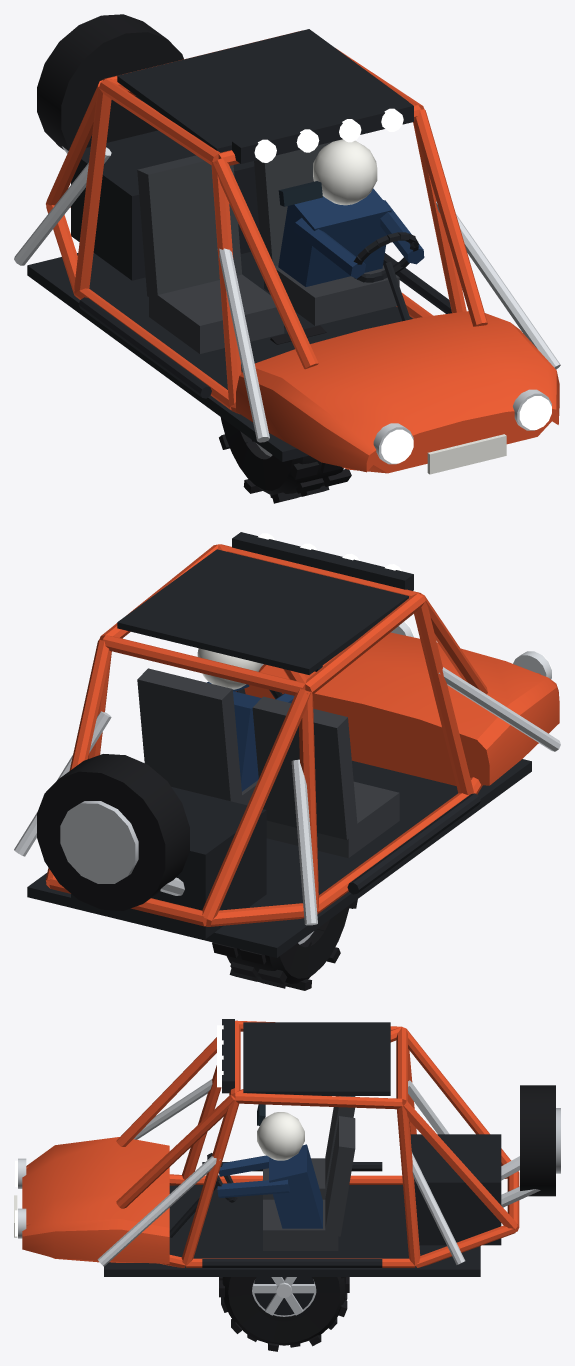
Rendered from buggy.glb.
3 views of the same model, one above another, from view 1: azimuth 30°, elevation 25°; view 2: azimuth 150°, elevation 25°; view 3: azimuth 270°, elevation 25° (orthographic). The views are drawn at different scales.
Visible parts, largest first — view 1: body, wheel; view 2: body, wheel; view 3: body, wheel.
Boxes of the visible parts, x1,y1,x2,y2 form: body: (14,14,560,474); wheel: (219,325,351,503); body: (14,532,560,957); wheel: (212,899,357,990); body: (14,1019,560,1276); wheel: (219,1277,349,1351).
Bounding box in the file's own units: 1.58 × 1.97 × 3.34.
